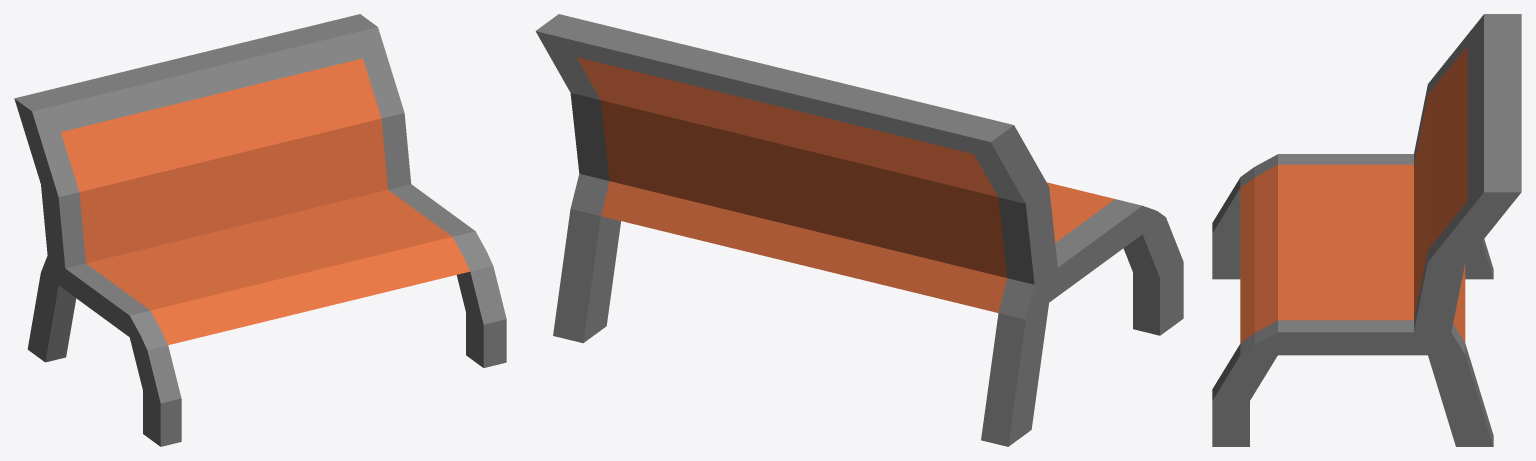
The model's file is Bench.fbx.
The picture shows the model from 3 angles, left to right: view 1: azimuth 30°, elevation 25°; view 2: azimuth 150°, elevation 25°; view 3: azimuth 270°, elevation 25°; orthographic projection. The views are drawn at different scales.
Visible parts, largest first — view 1: Cube.002; view 2: Cube.002; view 3: Cube.002.
Part boxes in pixels (box(x1,y1,x2,y2)): Cube.002: box(14, 14, 506, 446); Cube.002: box(535, 14, 1183, 446); Cube.002: box(1212, 14, 1521, 446).
Size of the model in its own units: 238 by 159 by 175.
